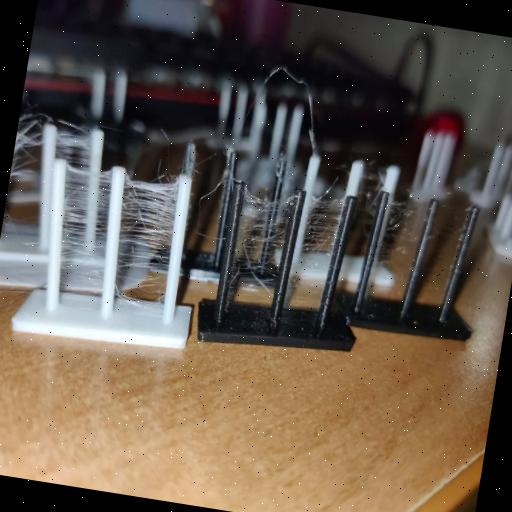stringing: (115, 173, 177, 314), (229, 57, 318, 152), (283, 191, 347, 313), (61, 160, 113, 307), (228, 189, 291, 310), (365, 198, 430, 304), (413, 204, 471, 303), (12, 91, 44, 182), (57, 129, 90, 163)
